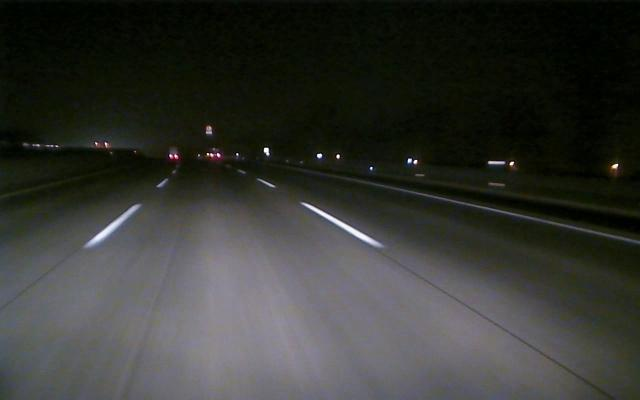lane: (344, 178, 638, 244), (259, 181, 385, 246), (83, 179, 167, 249)
